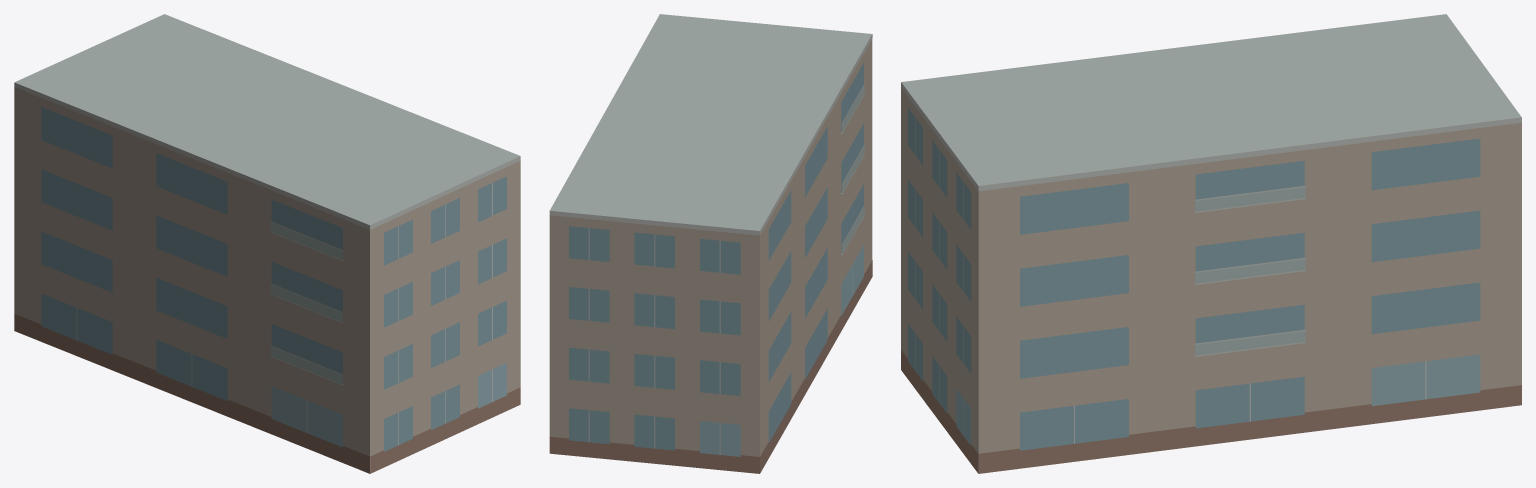
The model's file is survey-upis-32939039.glb.
3 renders of one model, left to right at view 1: azimuth 30°, elevation 25°; view 2: azimuth 150°, elevation 25°; view 3: azimuth 270°, elevation 25°, orthographic. The views are drawn at different scales.
Parts seen in each view (by area): view 1: survey-upis-32939039.tmp; view 2: survey-upis-32939039.tmp; view 3: survey-upis-32939039.tmp.
Part boxes in pixels (box(x1,y1,x2,y2)): survey-upis-32939039.tmp: box(14, 14, 520, 473); survey-upis-32939039.tmp: box(549, 14, 872, 473); survey-upis-32939039.tmp: box(901, 14, 1521, 473).
Size of the model in its own units: 16.93 by 13.2 by 25.81.
